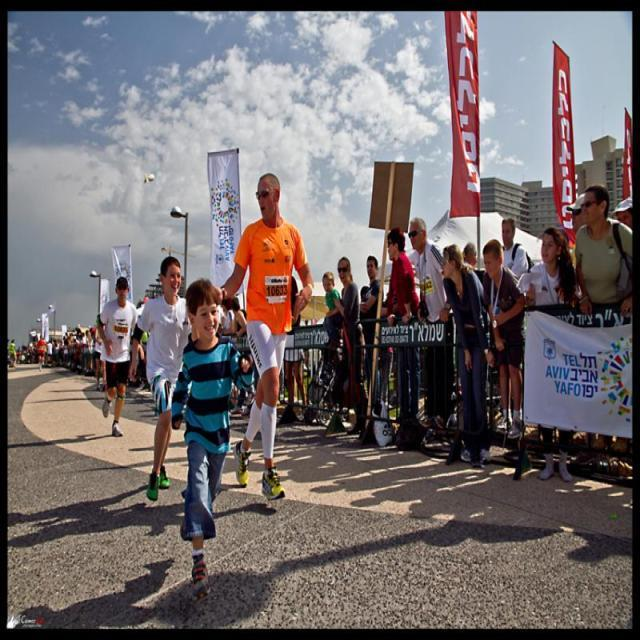dorsal: (260, 275, 294, 304)
